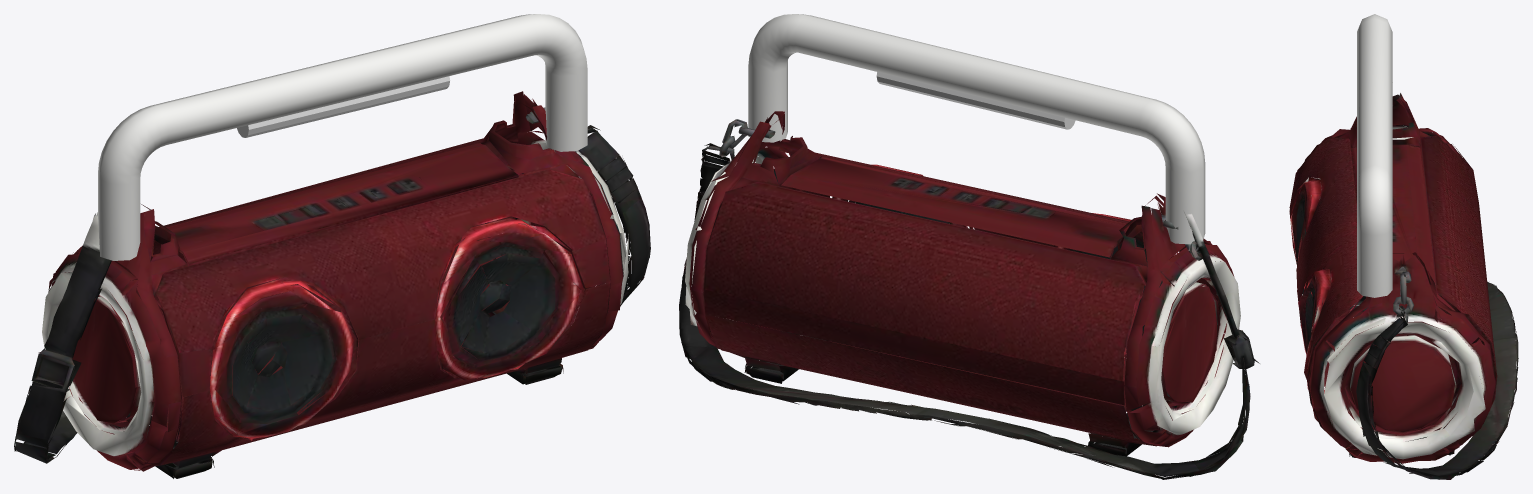
Rendered from som-caixa-1.glb.
3 renders of one model, left to right at view 1: azimuth 30°, elevation 25°; view 2: azimuth 150°, elevation 25°; view 3: azimuth 270°, elevation 25°, orthographic. The views are drawn at different scales.
Parts seen in each view (by area): view 1: Som_caixa, Hand_contact_bar; view 2: Som_caixa, Hand_contact_bar; view 3: Som_caixa.
Boxes of the visible parts, box(x1,y1,x2,y2) form: Som_caixa: box(14, 14, 650, 478); Hand_contact_bar: box(237, 76, 449, 137); Som_caixa: box(679, 14, 1259, 479); Hand_contact_bar: box(876, 72, 1075, 129); Som_caixa: box(1289, 14, 1518, 479).
Size of the model in its own units: 0.5507 by 0.3047 by 0.2205.
Materials: 3 (1 with a texture image).
